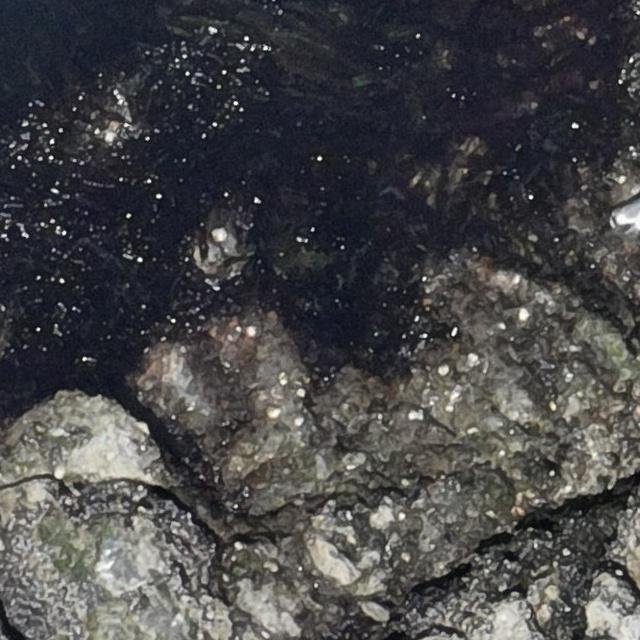umineko: (614, 199, 640, 225)
